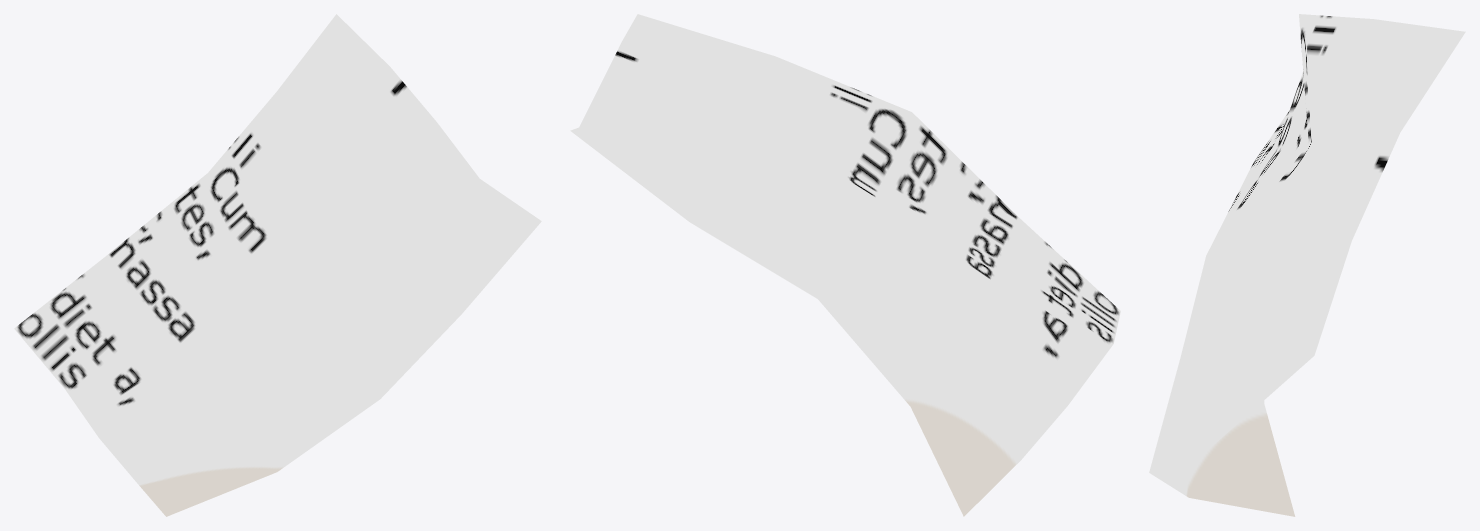
3 views of the same model, side by side, from view 1: azimuth 30°, elevation 25°; view 2: azimuth 150°, elevation 25°; view 3: azimuth 270°, elevation 25° (orthographic). The views are drawn at different scales.
Parts seen in each view (by area): view 1: Plane.013; view 2: Plane.013; view 3: Plane.013.
Part boxes in pixels (<box>): Plane.013: <box>14,14,541,516</box>; Plane.013: <box>570,14,1120,516</box>; Plane.013: <box>1149,14,1465,516</box>.
Bounding box in the file's own units: 0.5299 × 0.4176 × 0.1815.
1 material, 1 textured.
